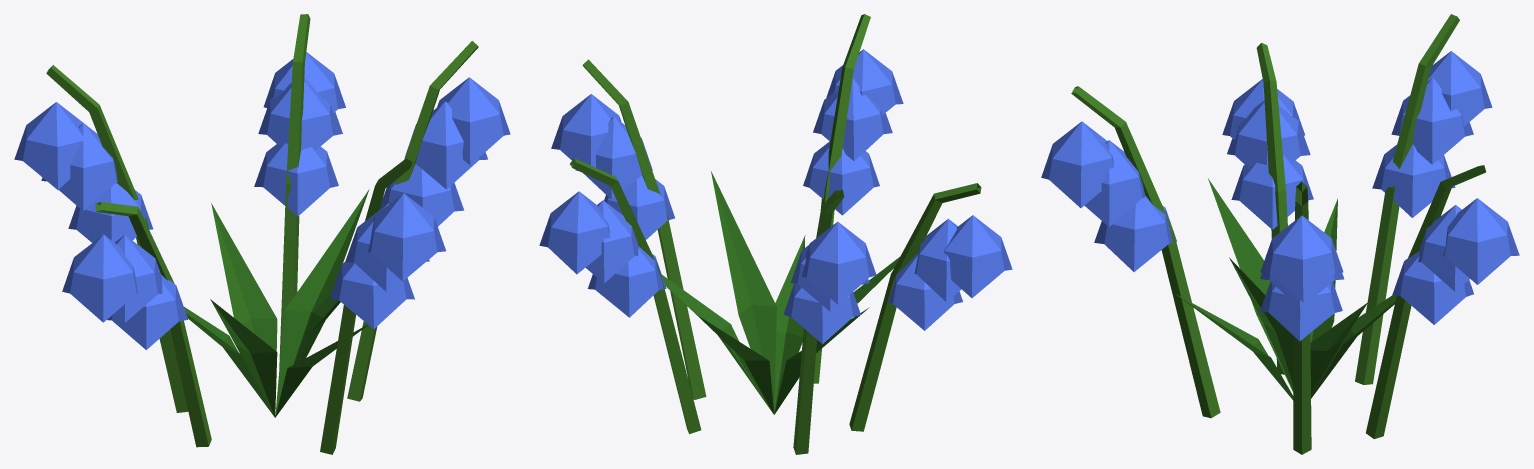
Rendered from flower_bluebells.glb.
3 renders of one model, left to right at view 1: azimuth 30°, elevation 25°; view 2: azimuth 150°, elevation 25°; view 3: azimuth 270°, elevation 25°, orthographic. The views are drawn at different scales.
Visible parts, largest first — view 1: Bluebells; view 2: Bluebells; view 3: Bluebells.
Part boxes in pixels (<box>): Bluebells: <box>14,14,510,454</box>; Bluebells: <box>539,14,1012,454</box>; Bluebells: <box>1041,14,1519,454</box>.
Bounding box in the file's own units: 0.4606 × 0.3252 × 0.4204.
